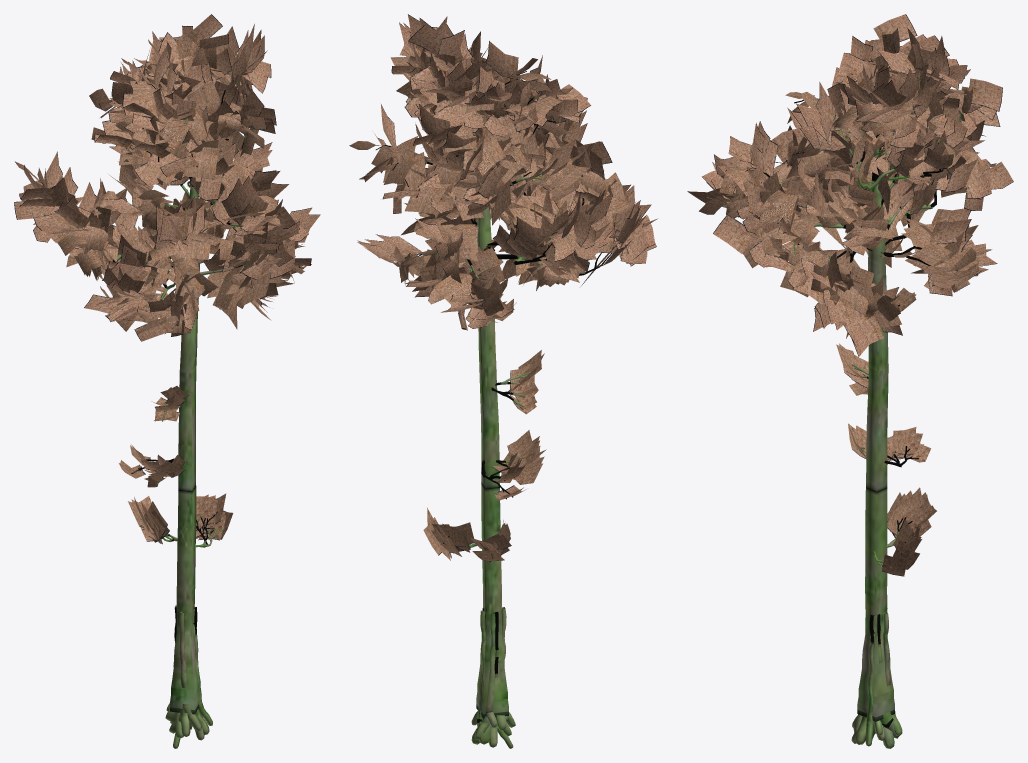
Rendered from tree8.glb.
3 views of the same model, side by side, from view 1: azimuth 30°, elevation 25°; view 2: azimuth 150°, elevation 25°; view 3: azimuth 270°, elevation 25° (orthographic). The views are drawn at different scales.
Parts seen in each view (by area): view 1: Bark___1; view 2: Bark___1; view 3: Bark___1.
Part boxes in pixels (x1,y1,x2,y2): Bark___1: (14, 14, 320, 748); Bark___1: (349, 14, 657, 748); Bark___1: (687, 14, 1013, 748).
Bounding box in the file's own units: 13.9 × 36.81 × 14.98.
Materials: 1 (1 with a texture image).
